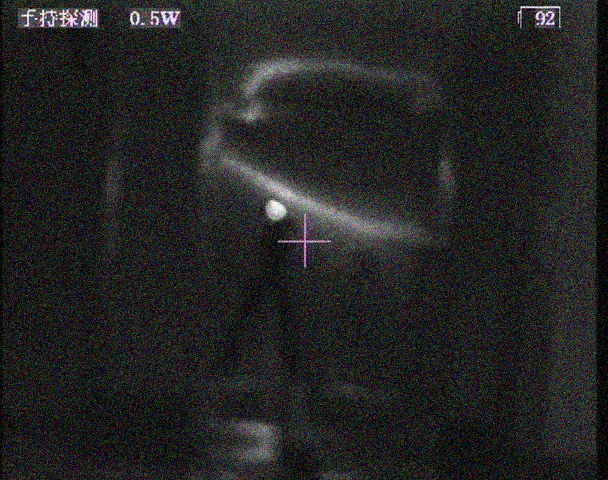my: (262, 196, 288, 223)
